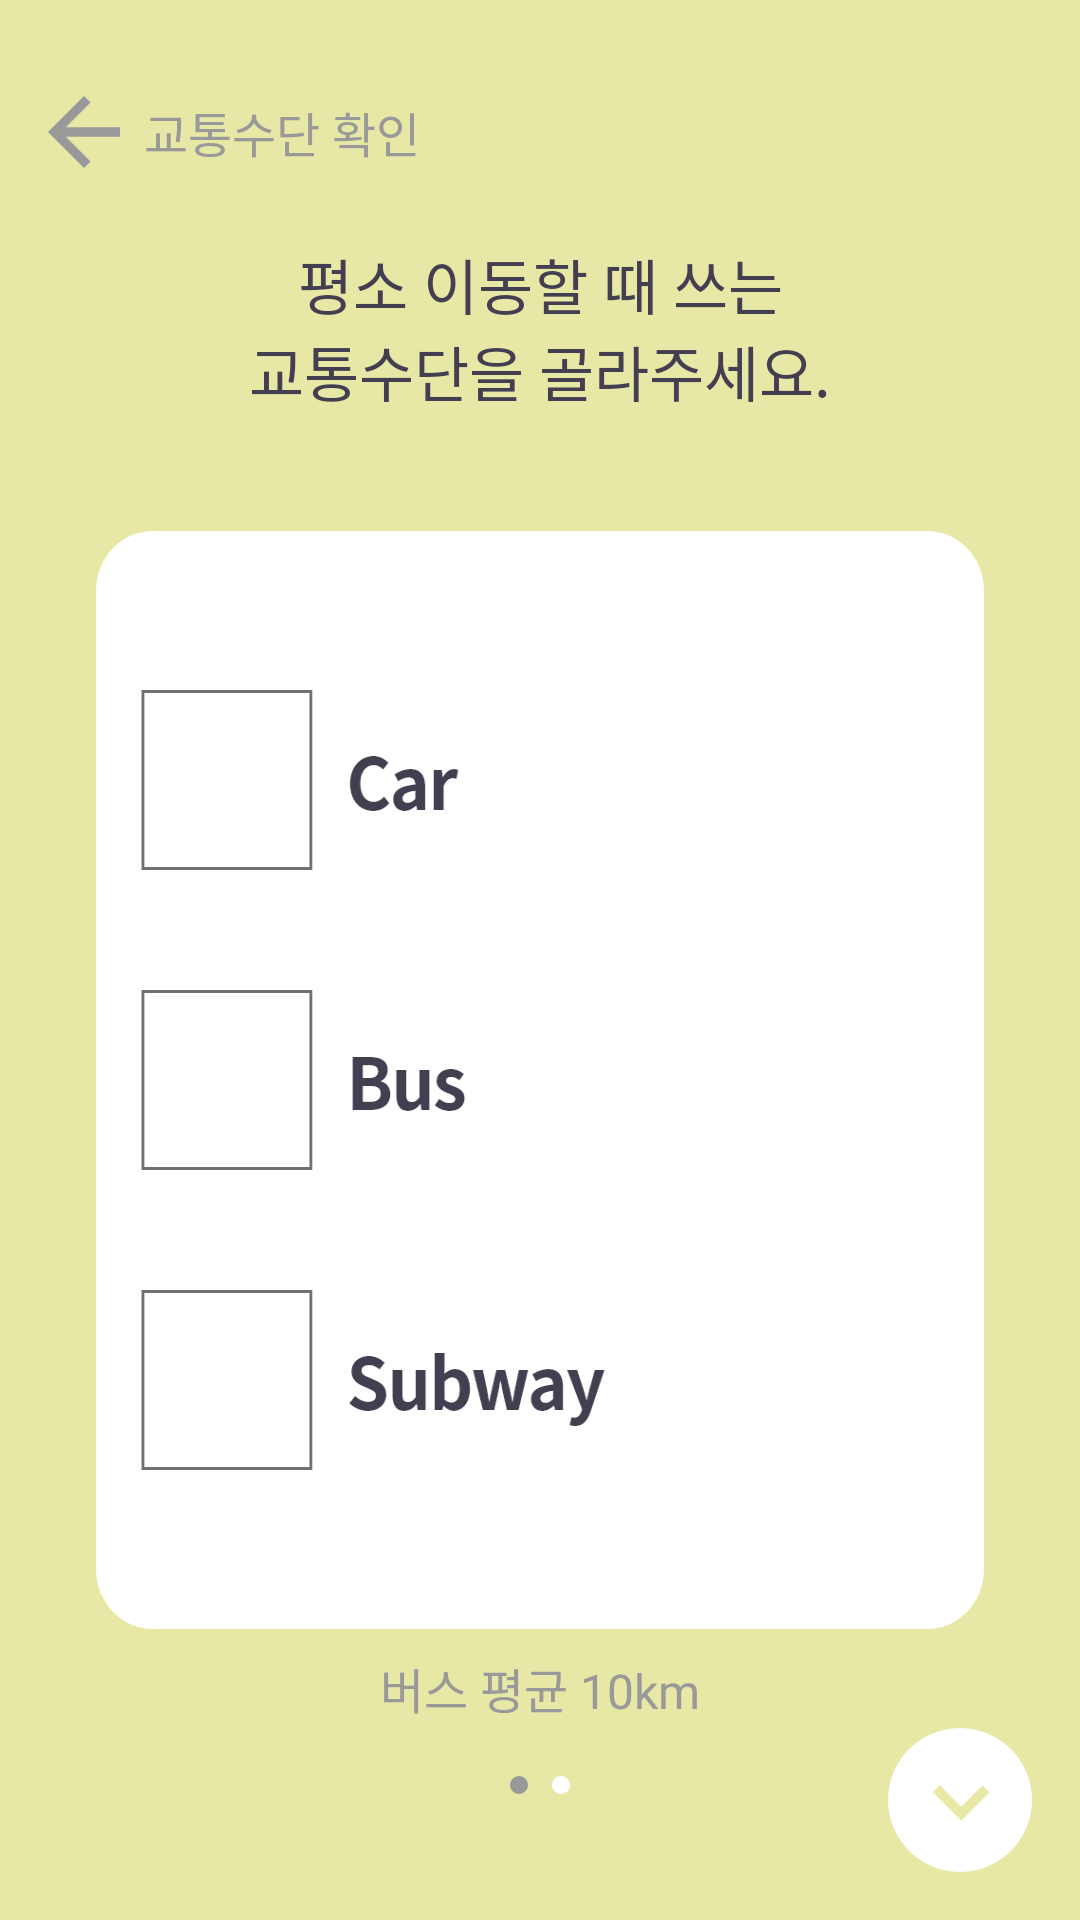

Screen size 1080*1920. Icon name, then its center in pixels as point (x, y):
backward arrow: point (84, 132)
